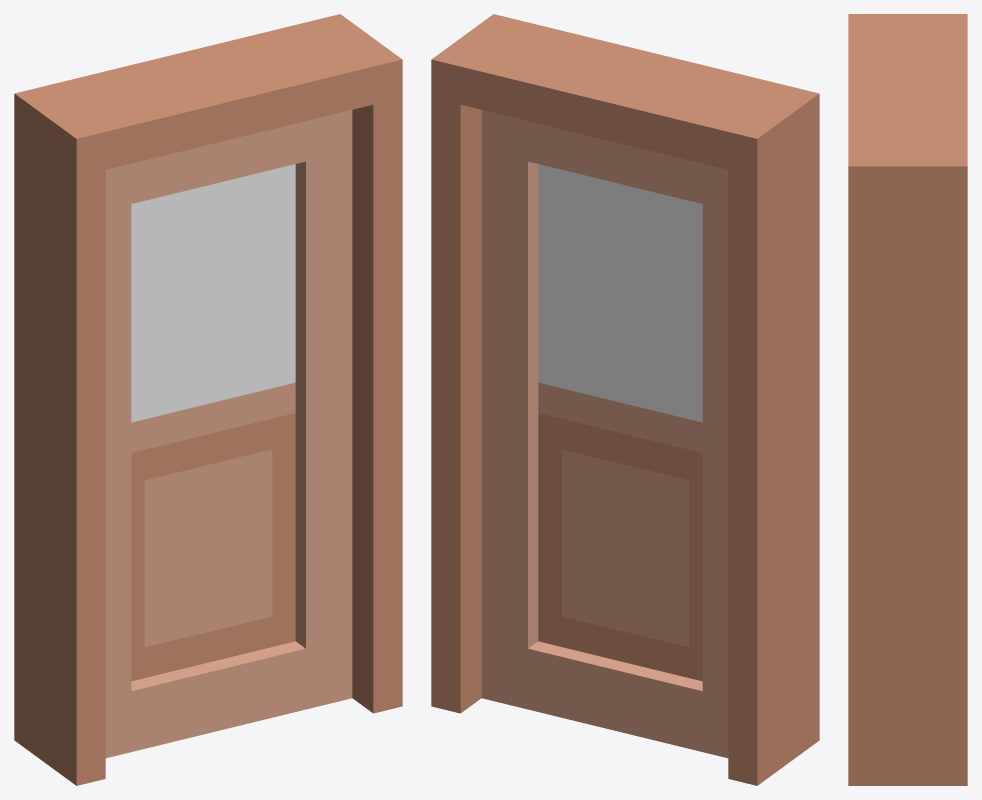
File: DoorWithWindow.fbx
3 renders of one model, left to right at view 1: azimuth 30°, elevation 25°; view 2: azimuth 150°, elevation 25°; view 3: azimuth 270°, elevation 25°, orthographic. The views are drawn at different scales.
Visible parts, largest first — view 1: doorway_doorWoodWindow; view 2: doorway_doorWoodWindow; view 3: doorway_doorWoodWindow.
Part boxes in pixels (bbox=[...]): doorway_doorWoodWindow: bbox=[14, 14, 402, 785]; doorway_doorWoodWindow: bbox=[431, 14, 819, 785]; doorway_doorWoodWindow: bbox=[848, 14, 967, 785].
Size of the model in its own units: 112 by 213 by 37.
